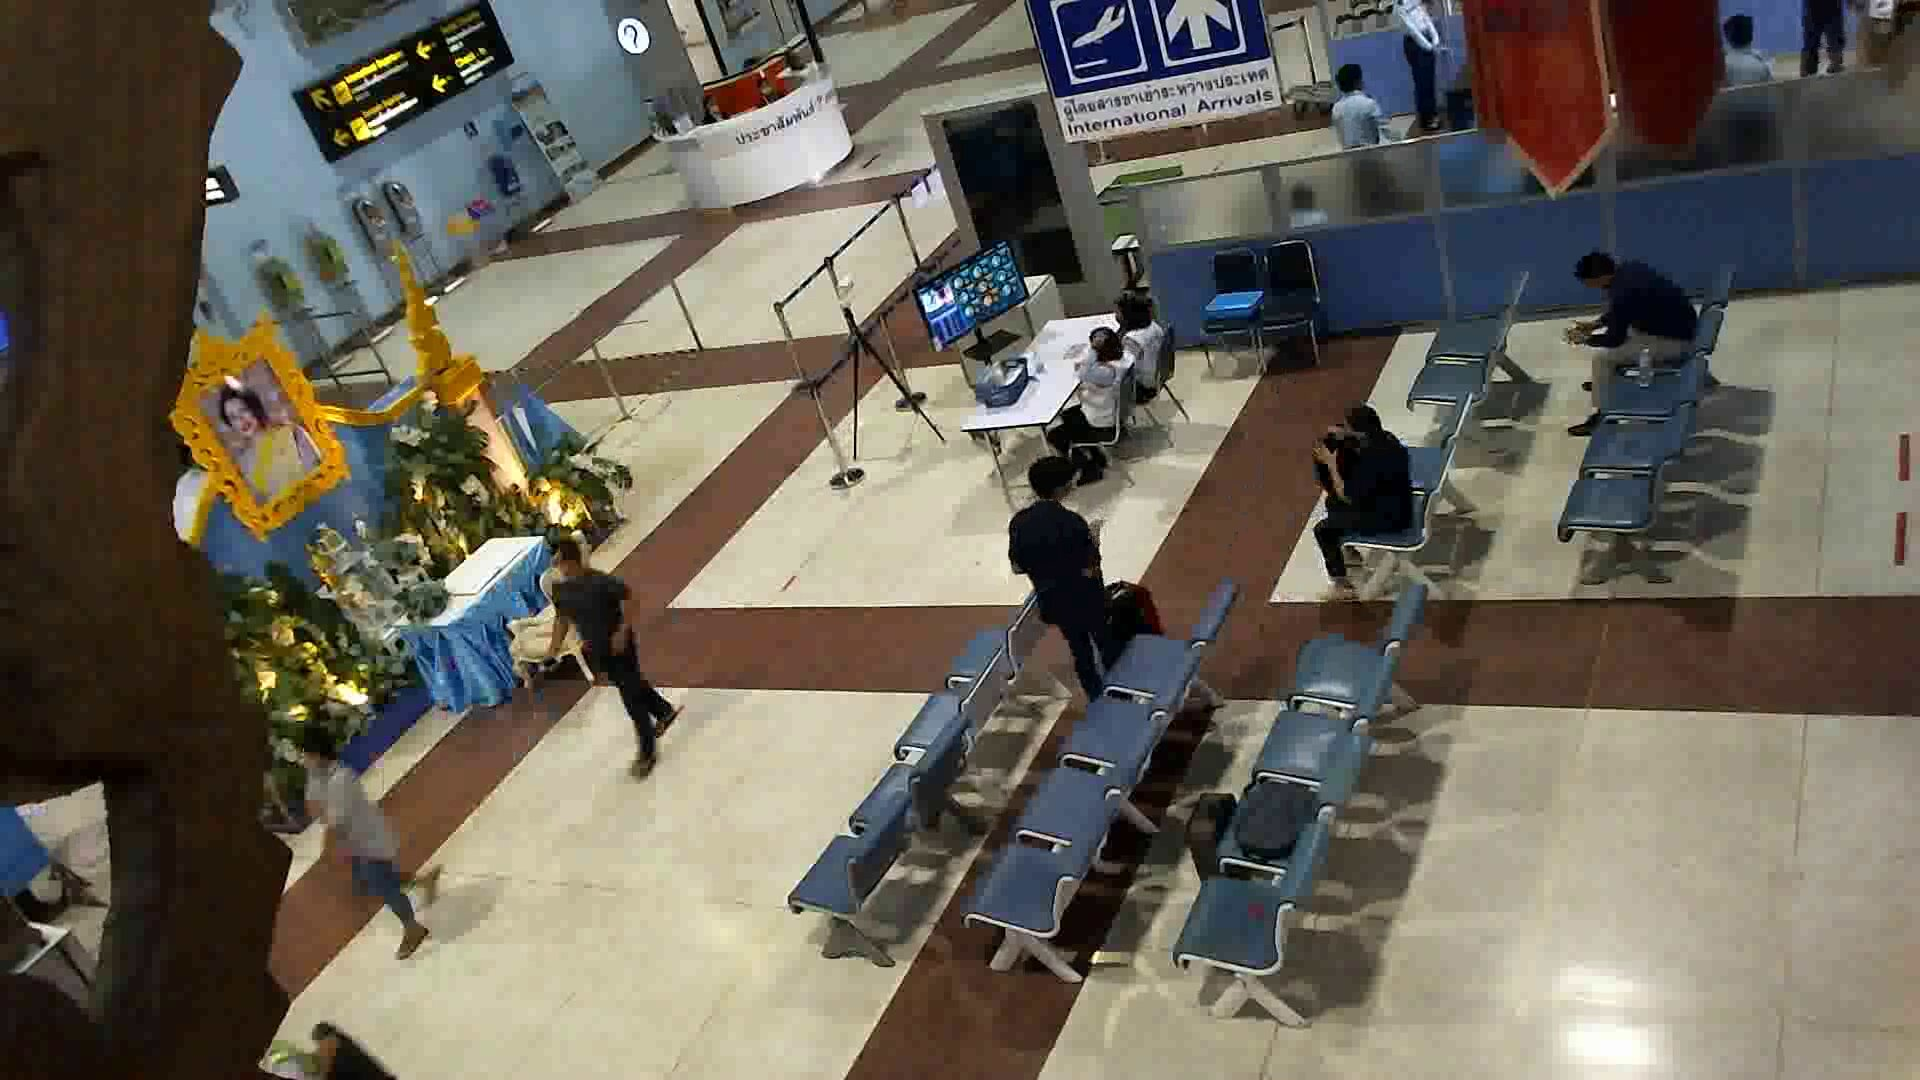backpack: (1243, 774, 1312, 857), (1316, 436, 1356, 493)
luggage: (1179, 788, 1245, 893), (1104, 578, 1164, 668)
people: (291, 724, 454, 961), (541, 532, 687, 788), (1004, 451, 1129, 705), (1566, 243, 1697, 447), (1304, 403, 1420, 601), (1049, 330, 1131, 484), (1110, 286, 1168, 405)
